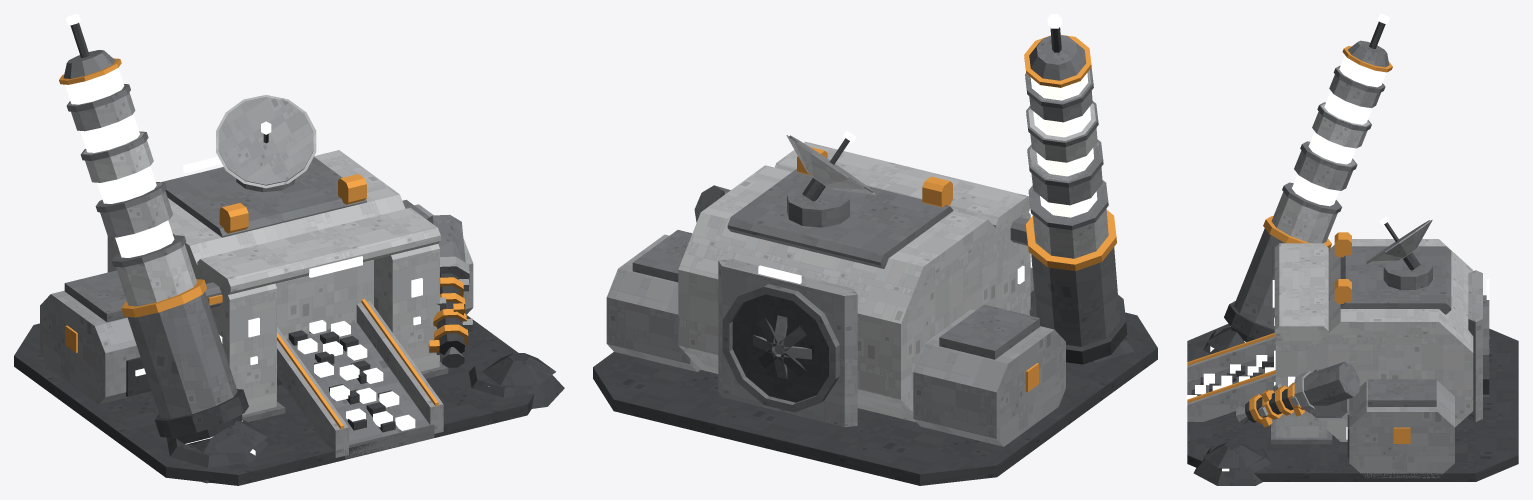
File: rig_bore_lod0.glb
3 views of the same model, side by side, from view 1: azimuth 30°, elevation 25°; view 2: azimuth 150°, elevation 25°; view 3: azimuth 270°, elevation 25° (orthographic). The views are drawn at different scales.
Parts seen in each view (by area): view 1: rig_bore_base_body, rig_bore_dish_body, rig_bore_bore_glow, rig_bore_base_trim, rig_bore_ore_glow, rig_bore_base_glow, rig_bore_auger_r_body, rig_bore_auger_r_trim, rig_bore_bore_body; view 2: rig_bore_base_body, rig_bore_base_trim, rig_bore_bore_glow, rig_bore_dish_body, rig_bore_fan_body, rig_bore_base_glow; view 3: rig_bore_base_body, rig_bore_bore_glow, rig_bore_base_trim, rig_bore_dish_body, rig_bore_auger_r_trim, rig_bore_ore_glow, rig_bore_auger_r_body, rig_bore_base_glow.
Boxes of the visible parts, box(x1,y1,x2,y2) form: rig_bore_base_body: box(14, 22, 564, 485); rig_bore_dish_body: box(216, 95, 316, 188); rig_bore_bore_glow: box(65, 68, 242, 444); rig_bore_base_trim: box(59, 58, 438, 429); rig_bore_ore_glow: box(297, 320, 415, 430); rig_bore_base_glow: box(65, 14, 489, 455); rig_bore_auger_r_body: box(436, 273, 472, 367); rig_bore_auger_r_trim: box(428, 277, 468, 352); rig_bore_bore_body: box(170, 414, 242, 444); rig_bore_base_body: box(593, 27, 1157, 485); rig_bore_base_trim: box(797, 35, 1116, 391); rig_bore_bore_glow: box(1030, 73, 1097, 217); rig_bore_dish_body: box(786, 135, 875, 201); rig_bore_fan_body: box(753, 315, 811, 379); rig_bore_base_glow: box(758, 14, 1062, 284); rig_bore_base_body: box(1187, 21, 1518, 485); rig_bore_bore_glow: box(1230, 55, 1386, 342); rig_bore_base_trim: box(1187, 46, 1410, 443); rig_bore_dish_body: box(1365, 220, 1432, 270); rig_bore_auger_r_trim: box(1249, 382, 1304, 427); rig_bore_ore_glow: box(1186, 355, 1275, 406); rig_bore_auger_r_body: box(1236, 383, 1299, 424); rig_bore_base_glow: box(1210, 14, 1489, 471).
Size of the model in its own units: 3.11 by 3.03 by 2.71.
Materials: 3 (1 with a texture image).
